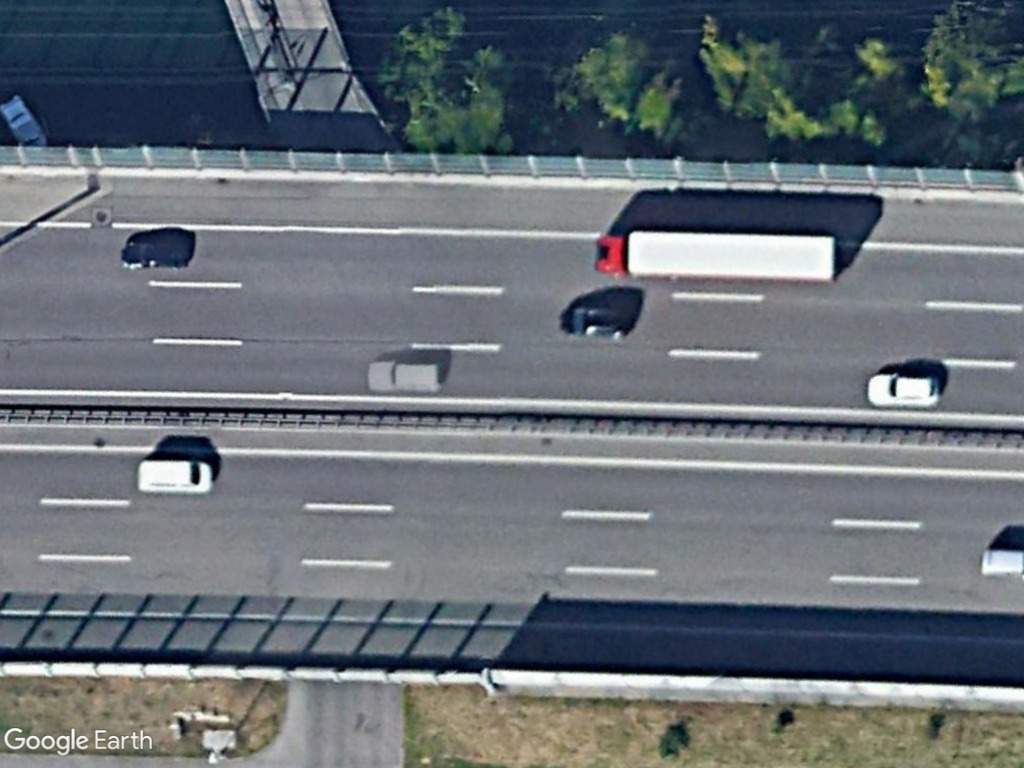car: (862, 369, 946, 409)
longvehicle: (590, 229, 842, 286)
van: (133, 455, 217, 497)
